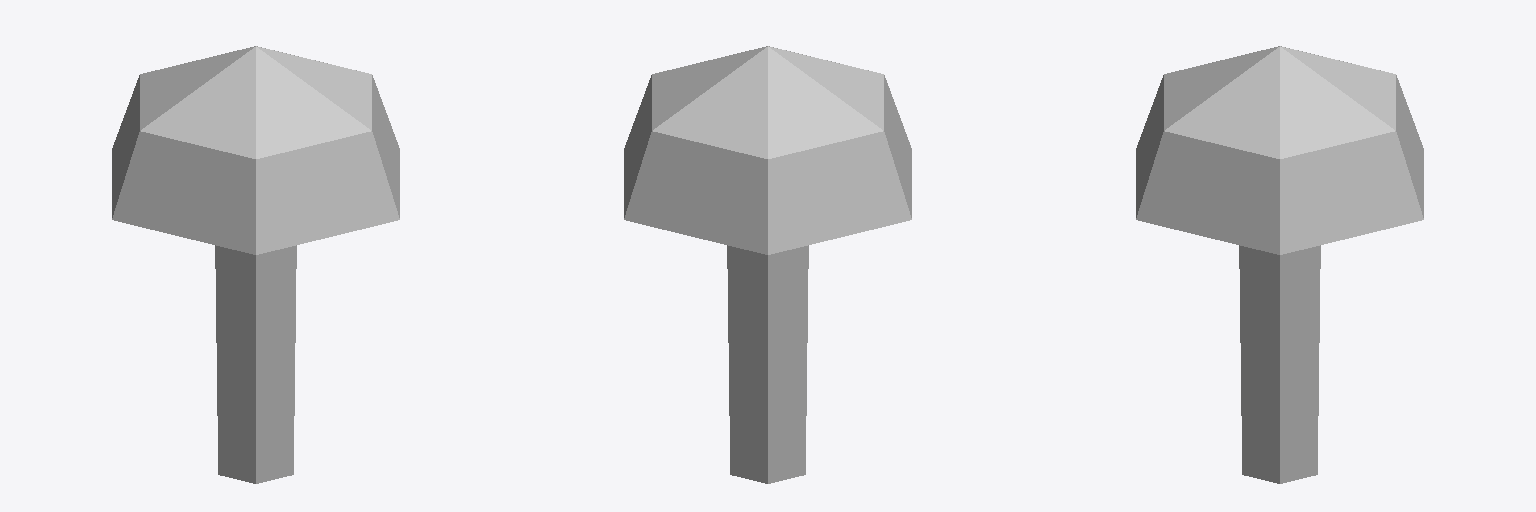
Rendered from Forest_C_Mushroom_03.obj.
3 renders of one model, left to right at view 1: azimuth 30°, elevation 25°; view 2: azimuth 150°, elevation 25°; view 3: azimuth 270°, elevation 25°, orthographic.
Visible parts, largest first — view 1: Forest_C_Mushroom_03; view 2: Forest_C_Mushroom_03; view 3: Forest_C_Mushroom_03.
Boxes of the visible parts, x1=… form: Forest_C_Mushroom_03: x1=112, y1=46, x2=399, y2=483; Forest_C_Mushroom_03: x1=624, y1=46, x2=911, y2=483; Forest_C_Mushroom_03: x1=1136, y1=46, x2=1423, y2=483.
Size of the model in its own units: 31.12 by 43.26 by 26.95.